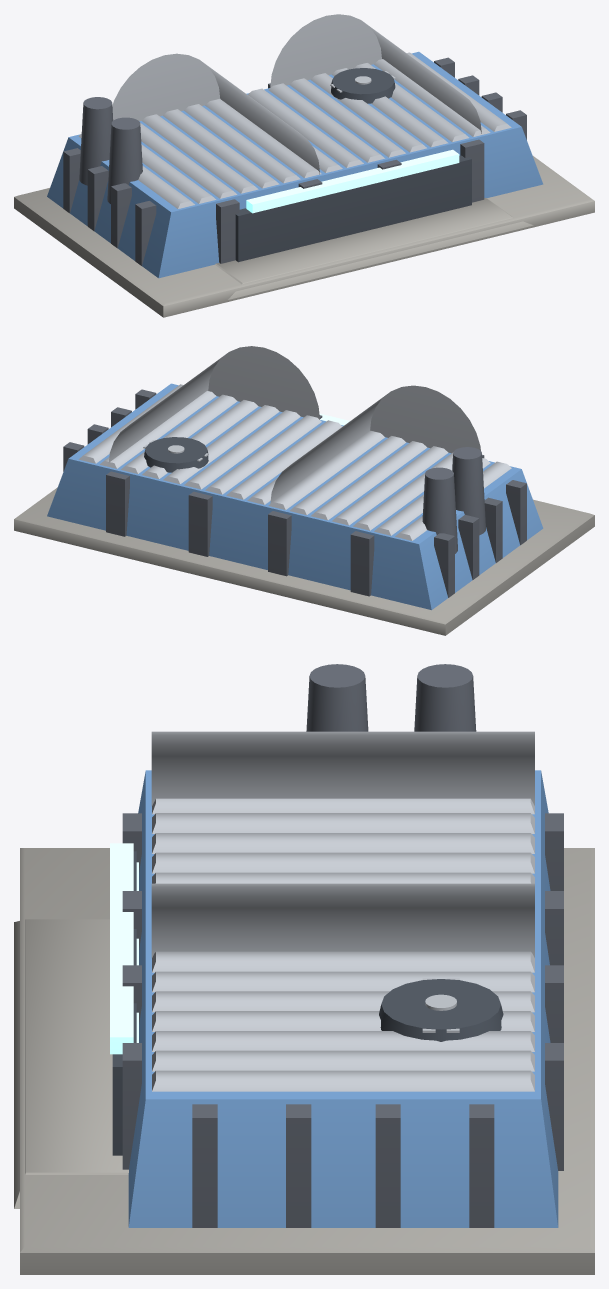
File: gaweap.glb
3 views of the same model, one above another, from view 1: azimuth 30°, elevation 25°; view 2: azimuth 150°, elevation 25°; view 3: azimuth 270°, elevation 25° (orthographic). The views are drawn at different scales.
Parts seen in each view (by area): view 1: Hull; view 2: Hull; view 3: Hull.
Boxes of the visible parts, box(x1,y1,x2,y2) form: Hull: box(14, 14, 594, 317); Hull: box(14, 346, 594, 635); Hull: box(14, 664, 594, 1274).
Size of the model in its own units: 8.64 by 2.52 by 5.24.
